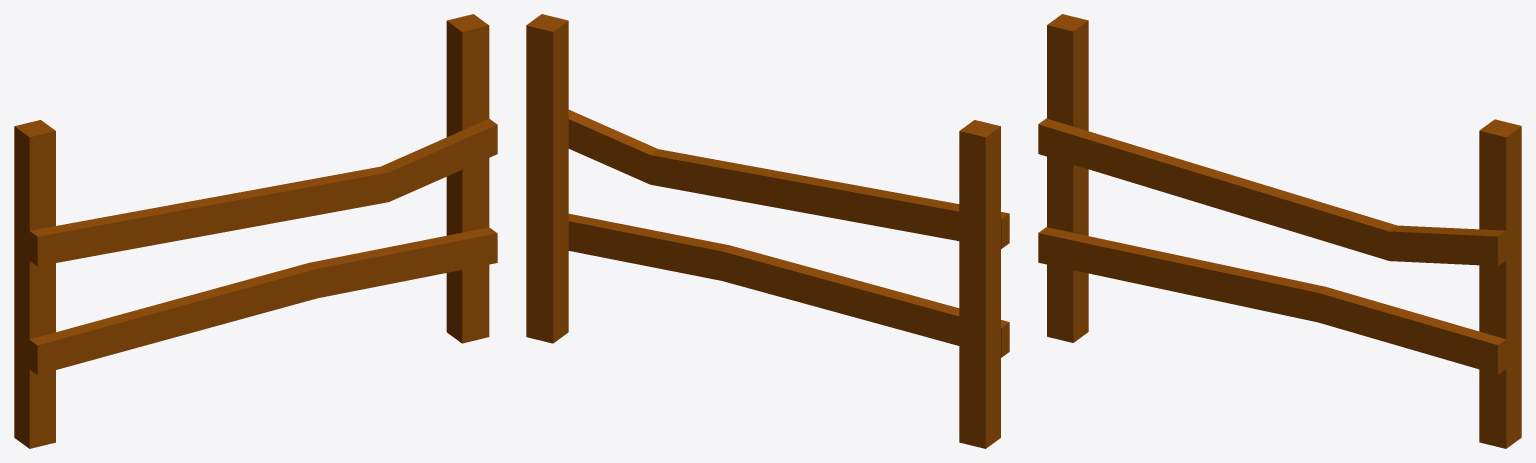
File: baricate2.glb
The picture shows the model from 3 angles, left to right: view 1: azimuth 30°, elevation 25°; view 2: azimuth 150°, elevation 25°; view 3: azimuth 330°, elevation 25°; orthographic projection.
Visible parts, largest first — view 1: Cube.014; view 2: Cube.014; view 3: Cube.014.
Part boxes in pixels (x1,y1,x2,y2): Cube.014: [14, 14, 497, 448]; Cube.014: [526, 14, 1009, 448]; Cube.014: [1038, 14, 1521, 448].
Bounding box in the file's own units: 1.55 × 1 × 0.1388.
